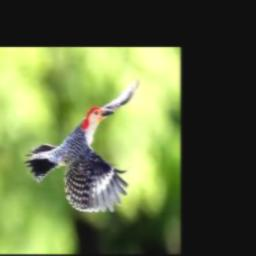Woodpecker: (25, 77, 140, 212)
